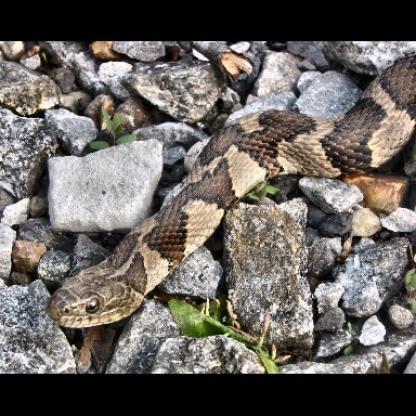Snake: (11, 63, 412, 356)
